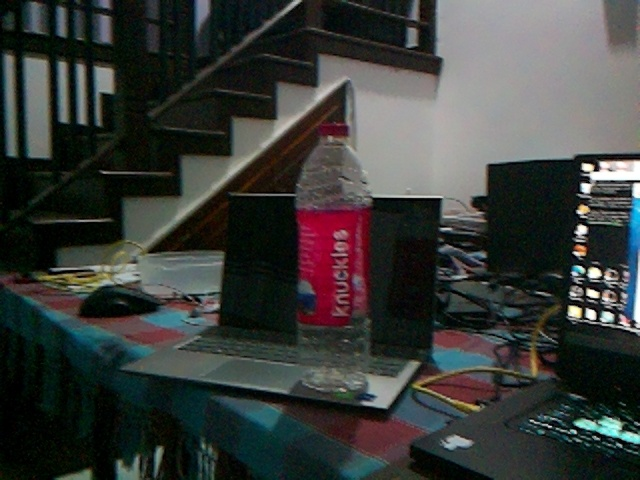bottle: (292, 120, 375, 397)
